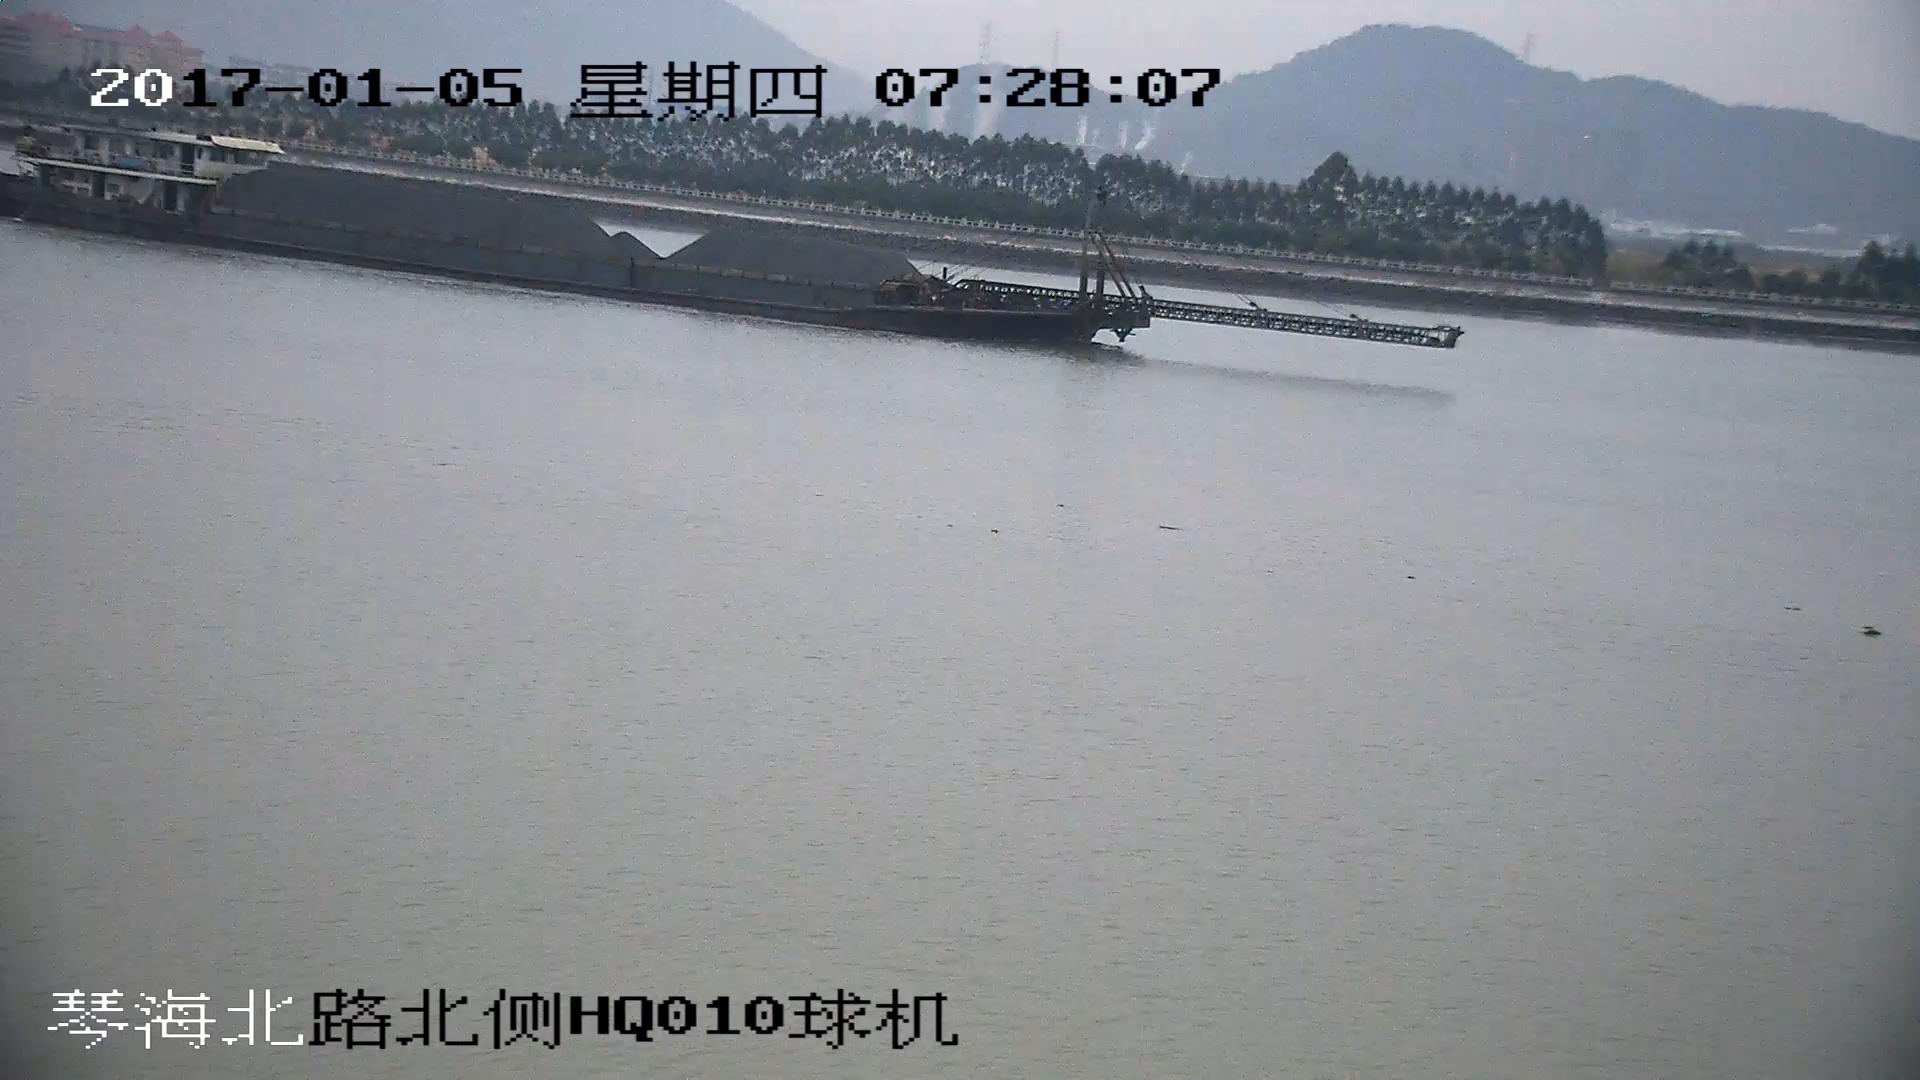ore carrier: (1, 106, 1446, 352)
